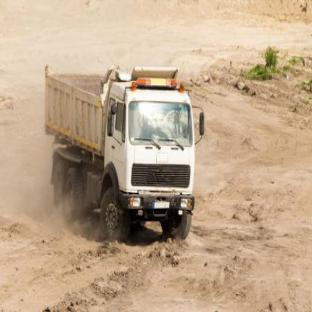Vehicle: (26, 57, 219, 234)
